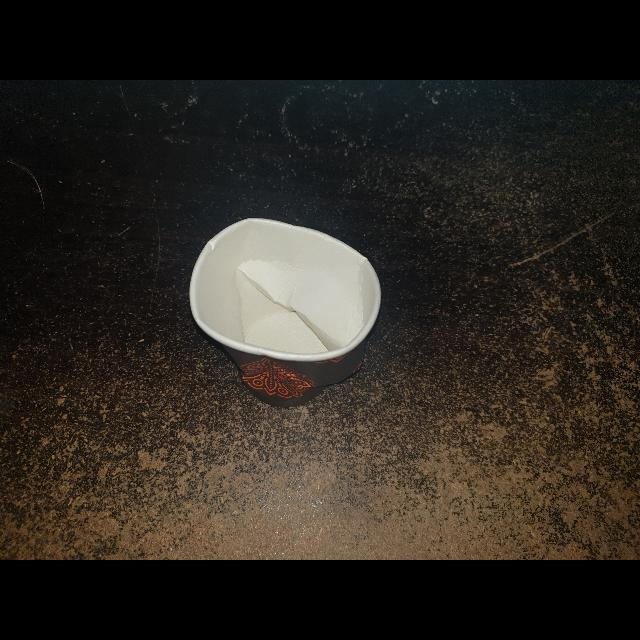trash: (185, 212, 383, 412)
